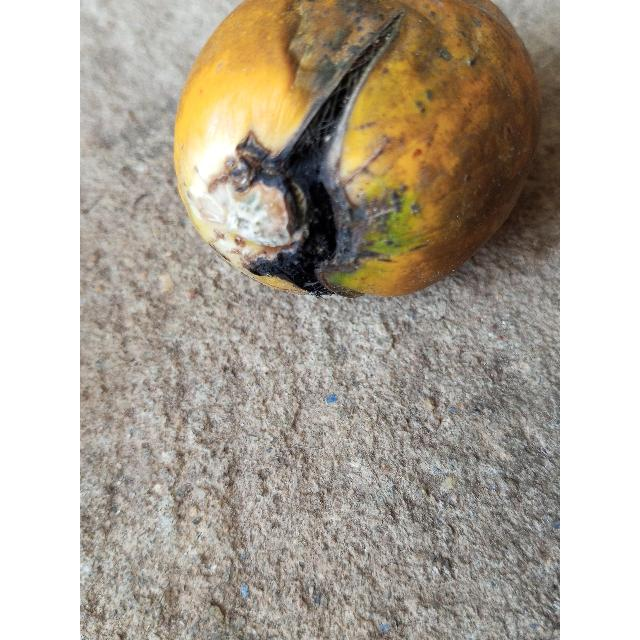damaged: (173, 0, 541, 301)
